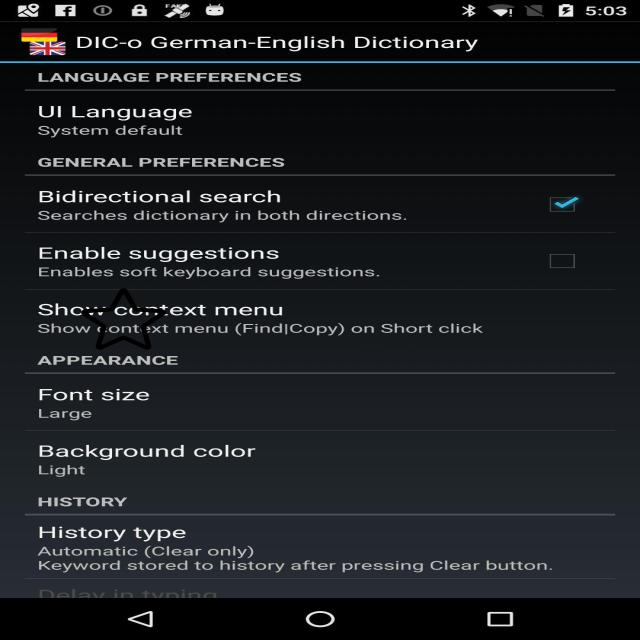forced continuity: (81, 287, 166, 351)
